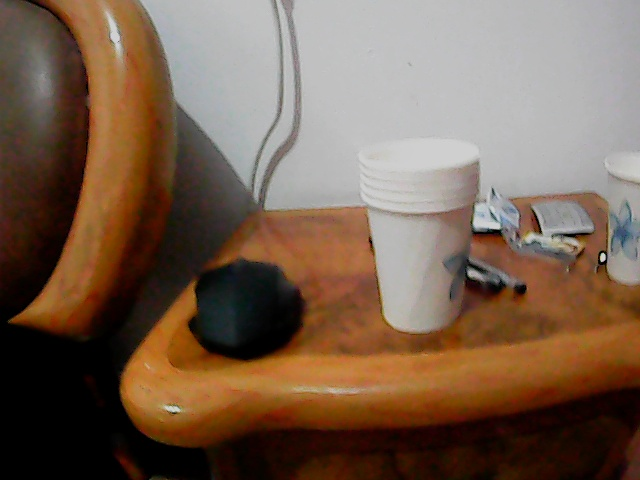cup: (357, 133, 469, 334)
mouse: (187, 255, 306, 359)
